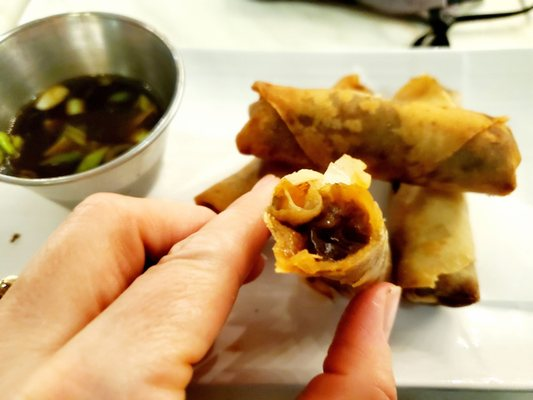soup: (261, 155, 394, 293)
sushi: (0, 11, 186, 207)
